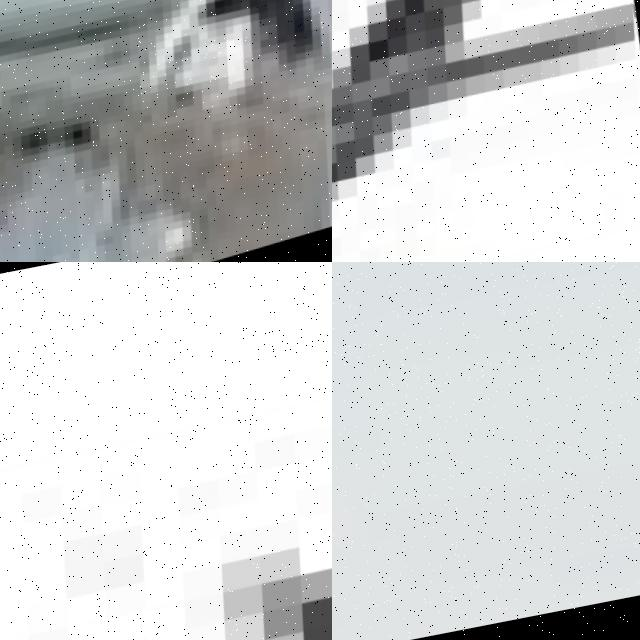0: (0, 0, 332, 262)
drone: (0, 383, 332, 640), (332, 0, 640, 262)
